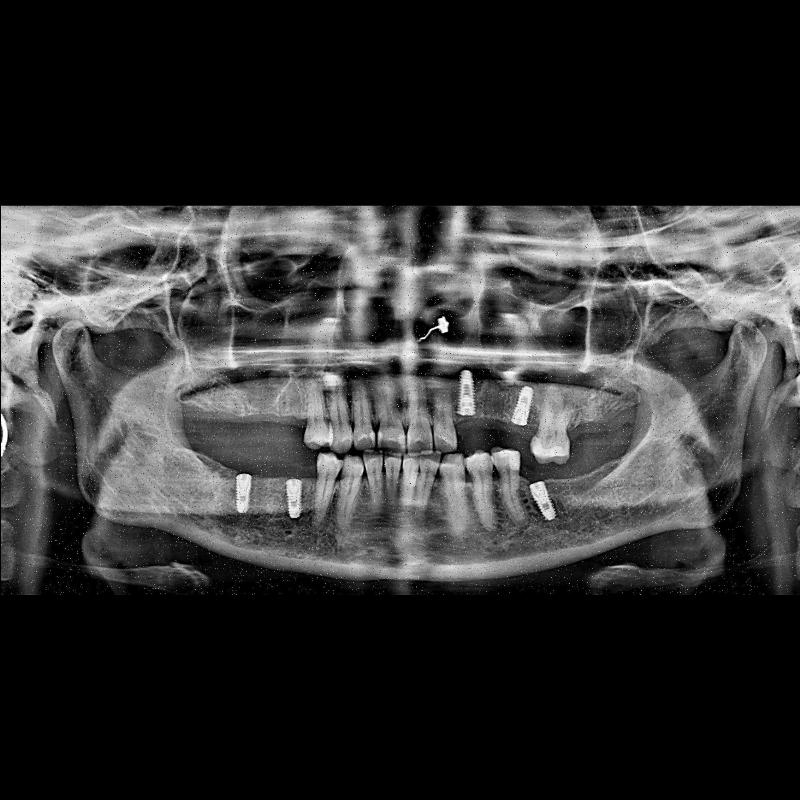osstem: (228, 469, 255, 521), (531, 476, 558, 526), (510, 380, 536, 431), (458, 366, 478, 420), (284, 478, 306, 522)
